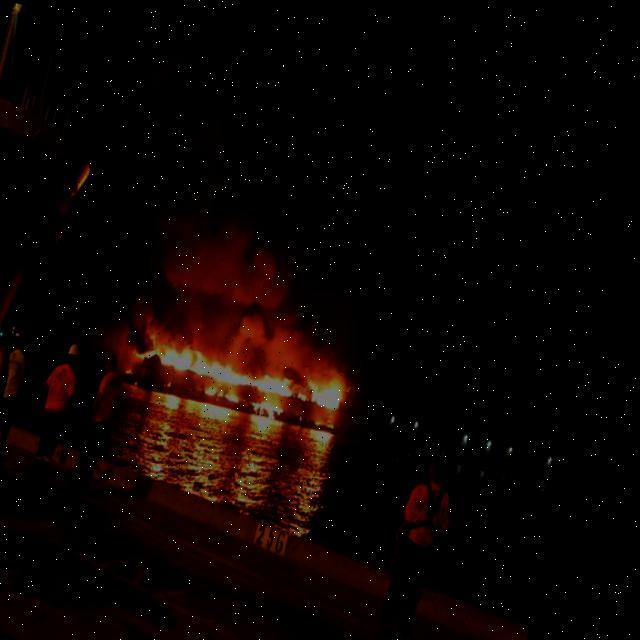Fire: (158, 324, 368, 388), (262, 378, 300, 402), (217, 372, 258, 389), (327, 396, 354, 418), (138, 357, 152, 370), (177, 366, 190, 379)
